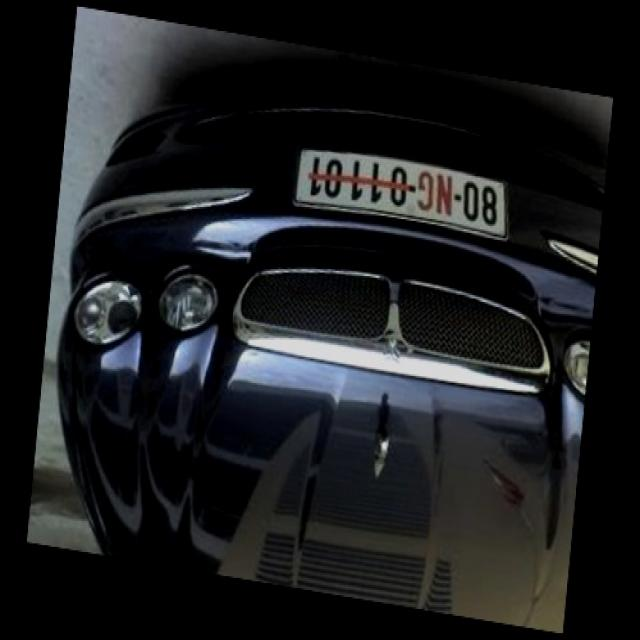bien_ngoai_giao: (290, 145, 511, 251)
